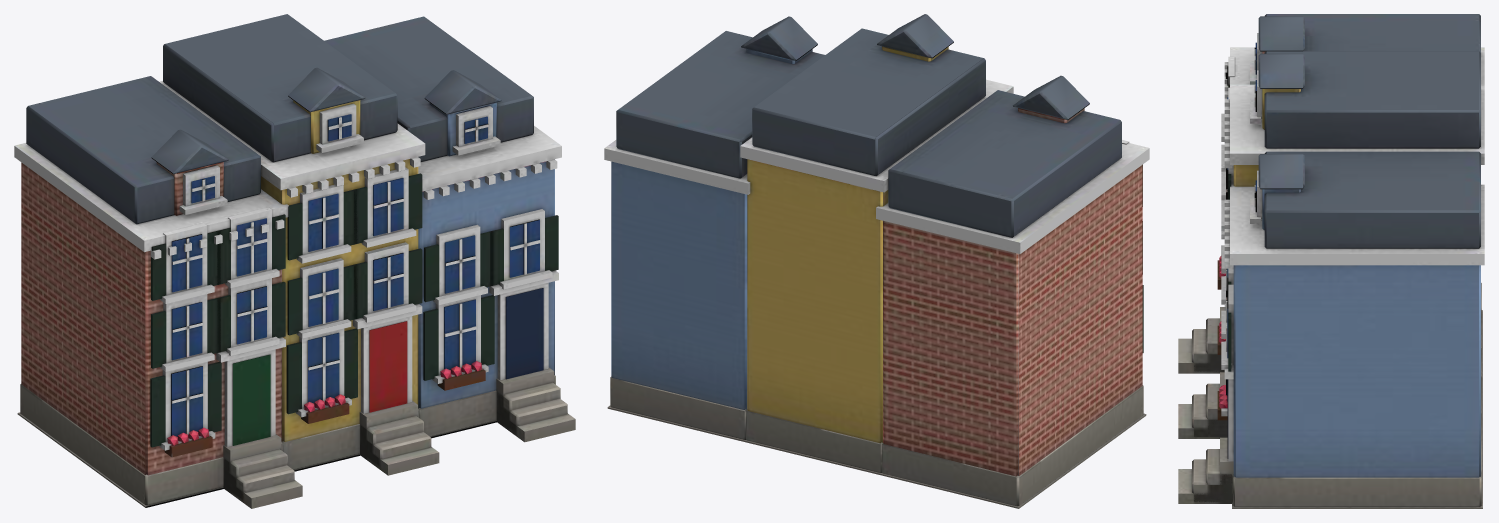
The model's file is georgetown.glb.
3 views of the same model, side by side, from view 1: azimuth 30°, elevation 25°; view 2: azimuth 150°, elevation 25°; view 3: azimuth 270°, elevation 25° (orthographic). The views are drawn at different scales.
Visible parts, largest first — view 1: georgetown; view 2: georgetown; view 3: georgetown.
Boxes of the visible parts, x1,y1,x2,y2 form: georgetown: [14, 14, 575, 508]; georgetown: [604, 14, 1149, 508]; georgetown: [1178, 14, 1484, 508].
Bounding box in the file's own units: 6.12 × 5.09 × 3.97.
1 material, 1 textured.
